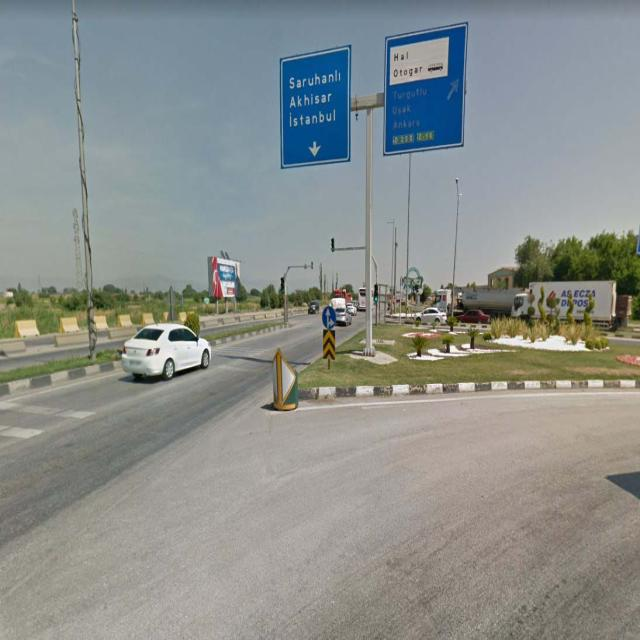ilerisag: (322, 306, 333, 330)
